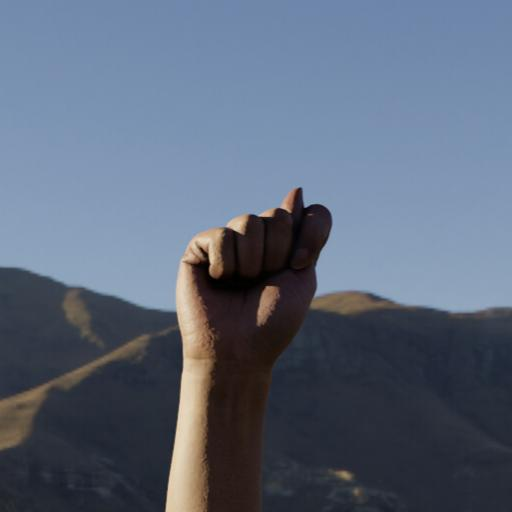T: (160, 178, 346, 422)
